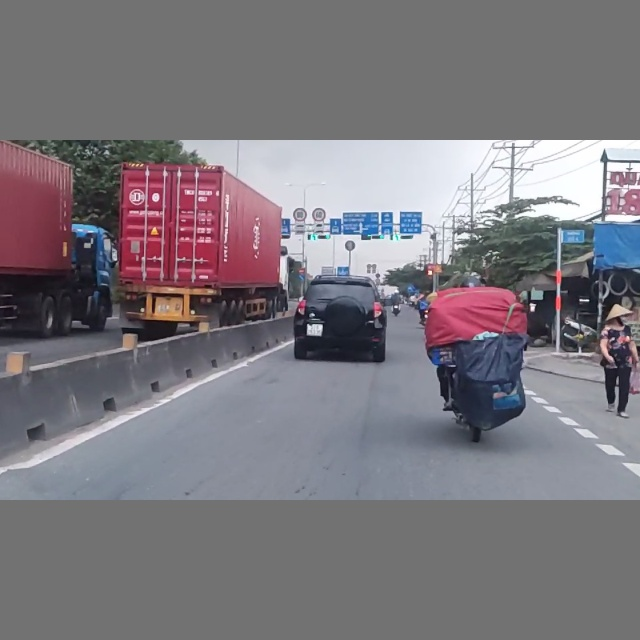P.102: (298, 267, 305, 275)
P.127*60: (311, 207, 327, 223)
P.127*80: (293, 208, 307, 221)
R.302a: (299, 275, 305, 281)
